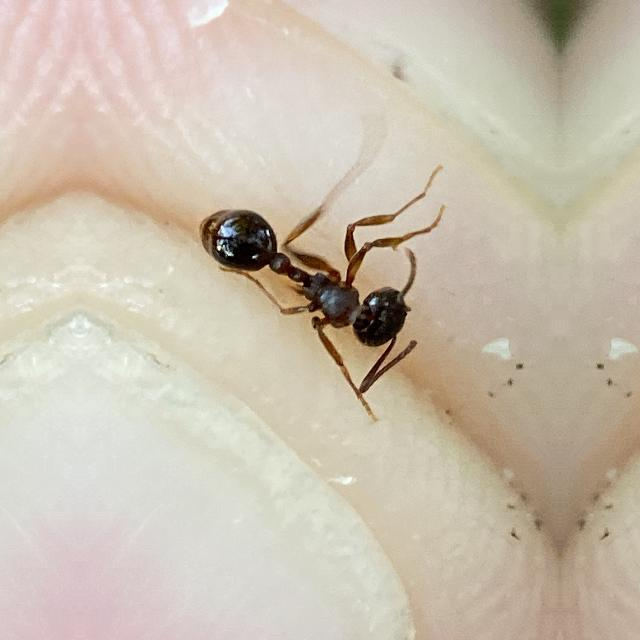Apheanogaster: (184, 164, 443, 406)
